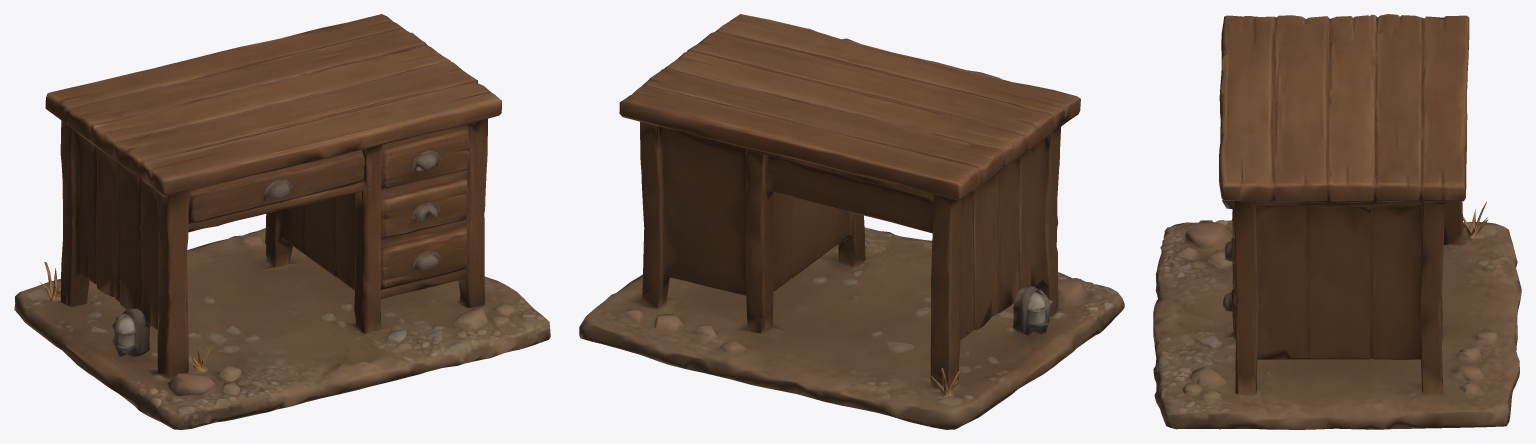
Rendered from office_desk.glb.
3 renders of one model, left to right at view 1: azimuth 30°, elevation 25°; view 2: azimuth 150°, elevation 25°; view 3: azimuth 270°, elevation 25°, orthographic. The views are drawn at different scales.
Visible parts, largest first — view 1: tripo_node_ad5c09ce-3f67-4623-9a6d-05433ad95051; view 2: tripo_node_ad5c09ce-3f67-4623-9a6d-05433ad95051; view 3: tripo_node_ad5c09ce-3f67-4623-9a6d-05433ad95051.
Boxes of the visible parts, left/top/right/bottom form: tripo_node_ad5c09ce-3f67-4623-9a6d-05433ad95051: left=14, top=14, right=550, bottom=429; tripo_node_ad5c09ce-3f67-4623-9a6d-05433ad95051: left=579, top=14, right=1124, bottom=429; tripo_node_ad5c09ce-3f67-4623-9a6d-05433ad95051: left=1153, top=14, right=1521, bottom=429.
Size of the model in its own units: 1 by 0.5518 by 0.7819.
Materials: 1 (1 with a texture image).
